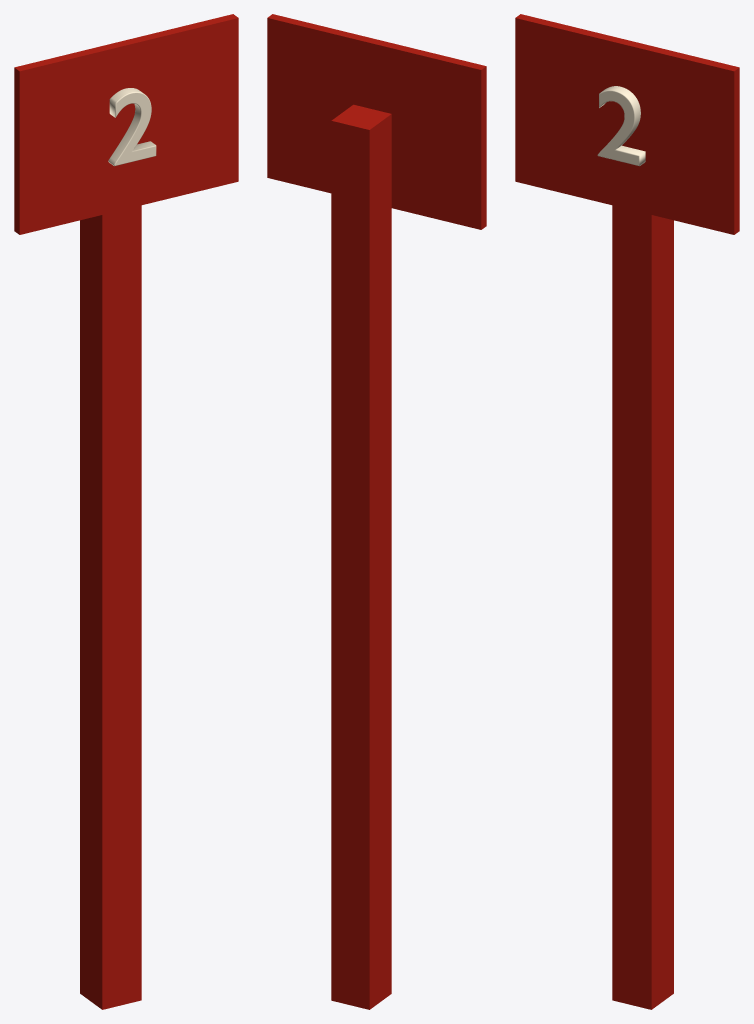
The model's file is hole_2.obj.
3 renders of one model, left to right at view 1: azimuth 30°, elevation 25°; view 2: azimuth 150°, elevation 25°; view 3: azimuth 330°, elevation 25°, orthographic. The views are drawn at different scales.
Parts seen in each view (by area): view 1: Stake, Board, Number_1; view 2: Stake, Board; view 3: Stake, Board, Number_1.
Part boxes in pixels (box(x1,y1,x2,y2)): Stake: box(80, 205, 141, 1009); Board: box(14, 14, 238, 234); Number_1: box(108, 88, 156, 166); Stake: box(331, 104, 391, 1009); Board: box(267, 14, 486, 229); Stake: box(612, 205, 673, 1009); Board: box(515, 14, 739, 234); Number_1: box(597, 86, 645, 166).
Size of what is drawn, in the model's own units: 0.28 by 1.18 by 0.08.
